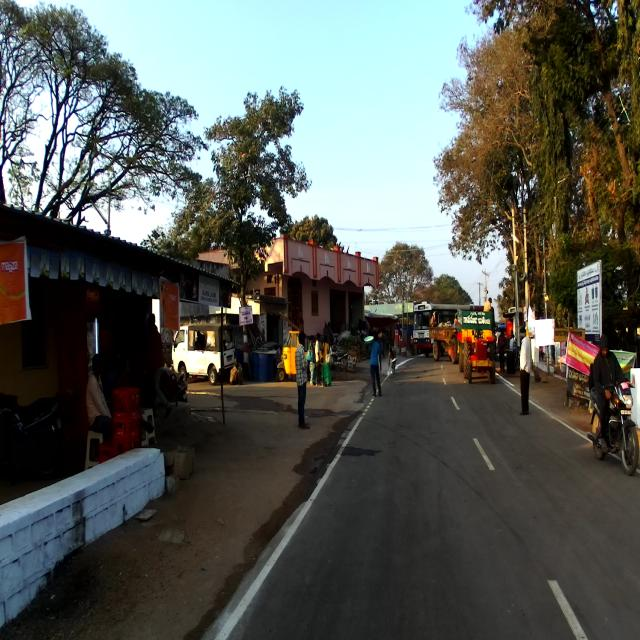motorcycle ahead at: (583, 377, 640, 479)
person ahead at: (292, 328, 314, 427)
truck ahead at: (458, 301, 499, 382)
